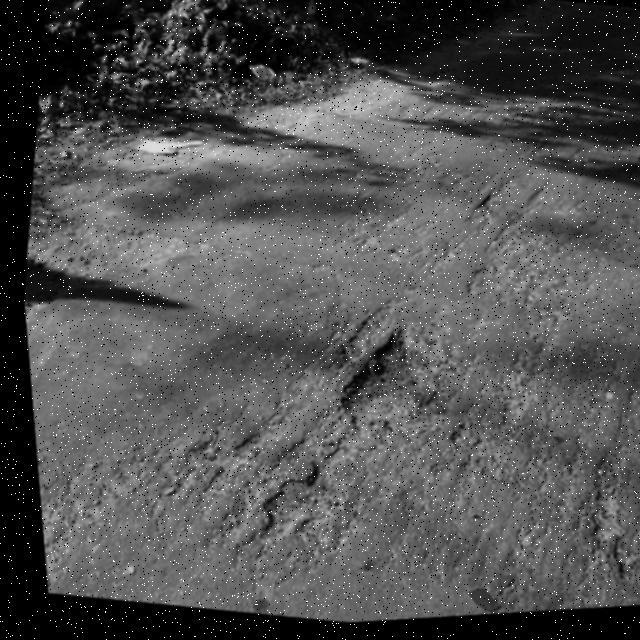pothole: (321, 318, 432, 442)
